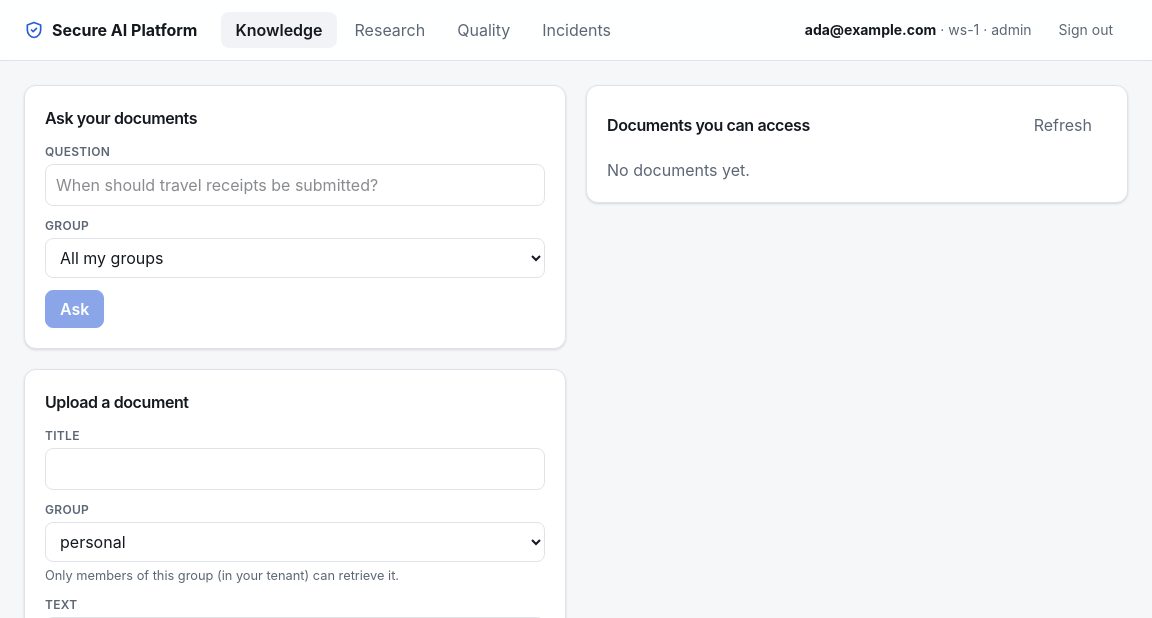
Test: Accounts › restores a cookie session and signs out on the server
This screenshot has width=1152, height=618.
Expected: the text "ada@example.com" is shown, top-left (805, 21), bottom-right (936, 38)
Click the button "Sign out".
click(1086, 30)  # box top-left (1044, 13), bottom-right (1128, 47)
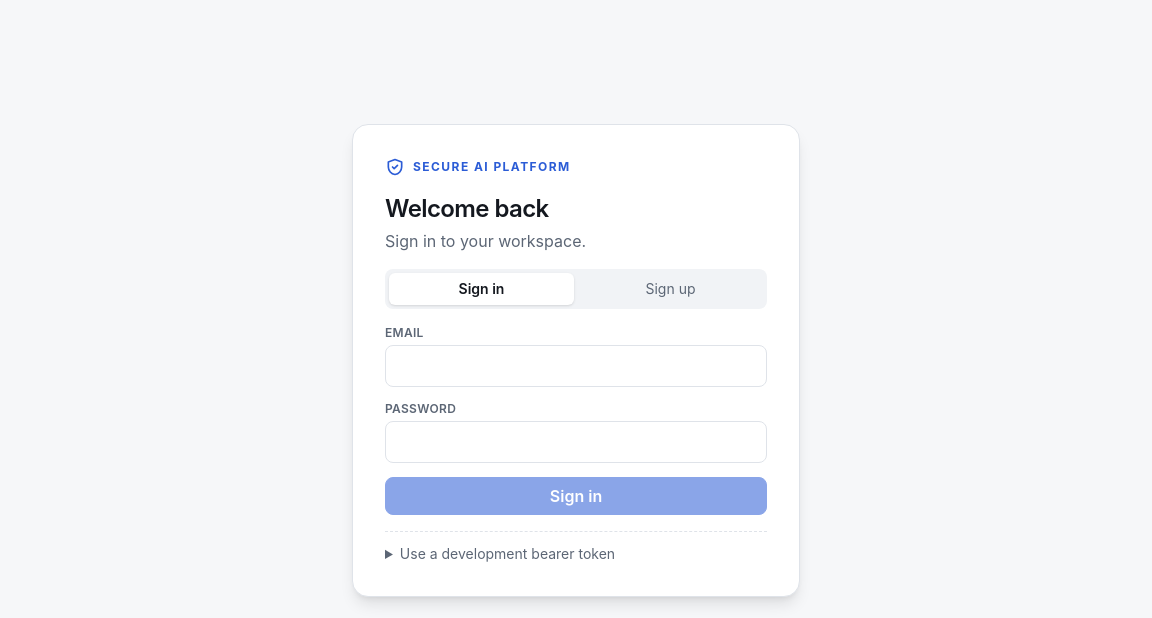
Expected: the heading "Welcome back" is shown, top-left (385, 194), bottom-right (549, 222)
